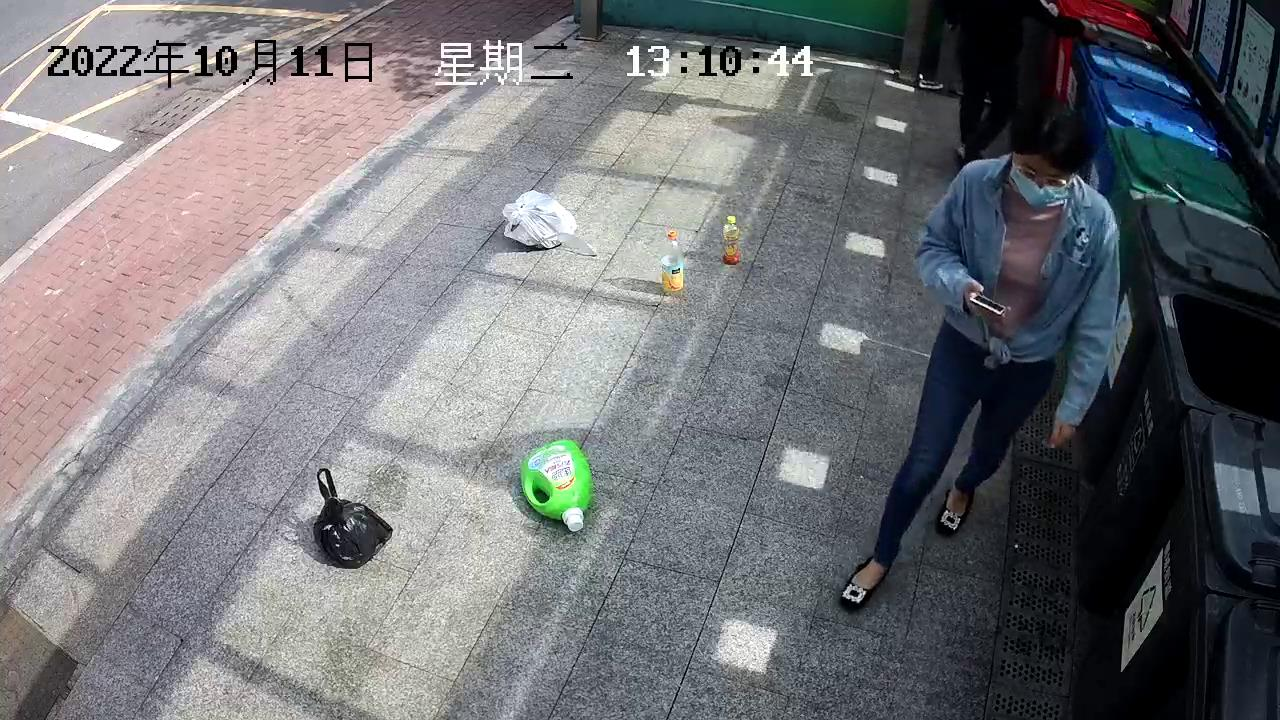garbage-bag: (312, 464, 395, 571), (501, 187, 579, 252)
suliaozhipin: (518, 437, 594, 536), (661, 225, 687, 300), (721, 212, 743, 264)
worker: (837, 101, 1123, 614)
